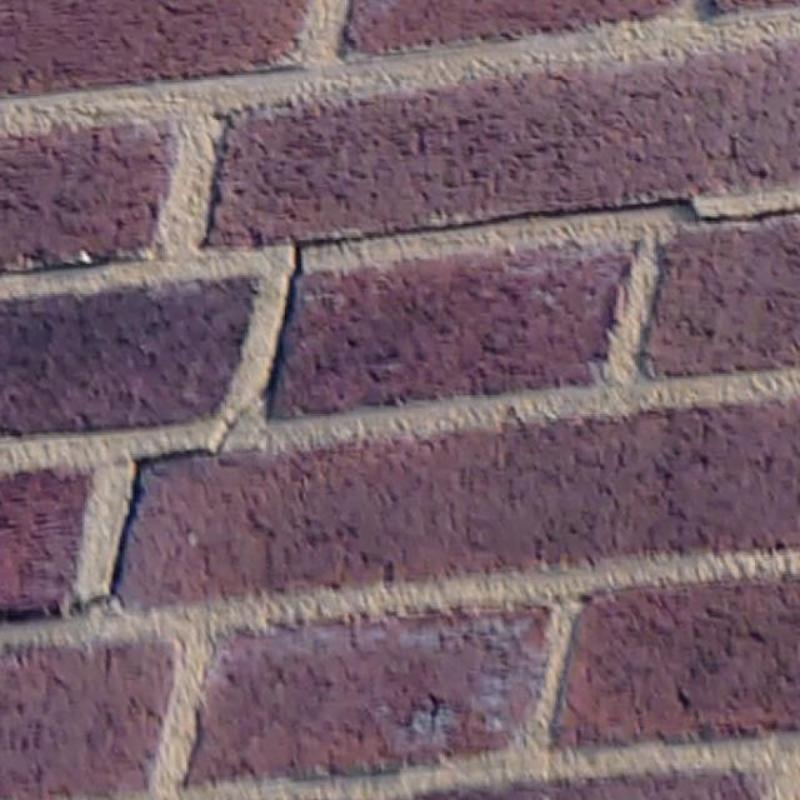pothole: (104, 241, 303, 599), (300, 200, 799, 246), (0, 594, 108, 620)
